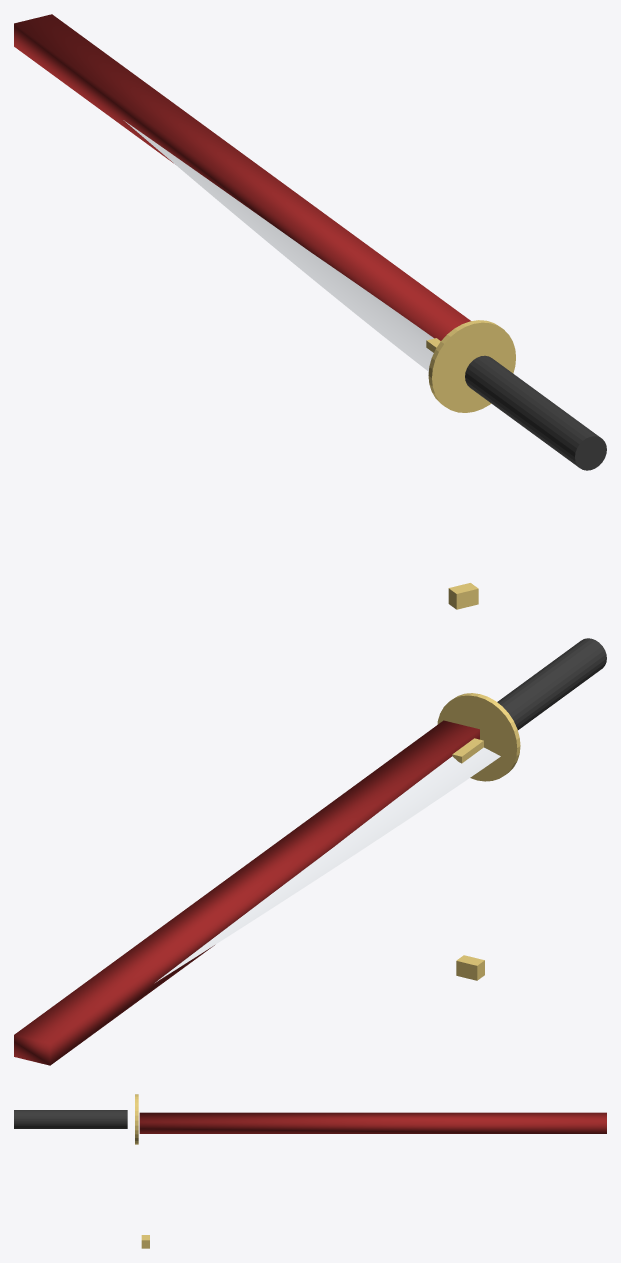
File: katana.glb
3 renders of one model, top to bottom at view 1: azimuth 30°, elevation 25°; view 2: azimuth 150°, elevation 25°; view 3: azimuth 270°, elevation 25°, orthographic. The views are drawn at different scales.
Parts seen in each view (by area): view 1: Katana_Saya, Katana_Blade, Katana_Tsuka, Katana_Tsuba; view 2: Katana_Saya, Katana_Blade, Katana_Tsuka, Katana_Tsuba, Katana_Kashira; view 3: Katana_Saya, Katana_Tsuka.
Boxes of the visible parts, box(x1,y1,x2,y2) form: Katana_Saya: box(14, 14, 470, 340); Katana_Blade: box(123, 120, 433, 371); Katana_Tsuka: box(465, 355, 606, 470); Katana_Tsuba: box(428, 320, 515, 412); Katana_Saya: box(14, 720, 479, 1065); Katana_Blade: box(155, 747, 500, 982); Katana_Tsuka: box(497, 638, 606, 729); Katana_Tsuba: box(437, 693, 520, 781); Katana_Kashira: box(456, 955, 484, 980); Katana_Saya: box(139, 1112, 606, 1133); Katana_Tsuka: box(14, 1110, 127, 1128).
Size of the model in its own units: 0.084 by 0.2745 by 0.99.
